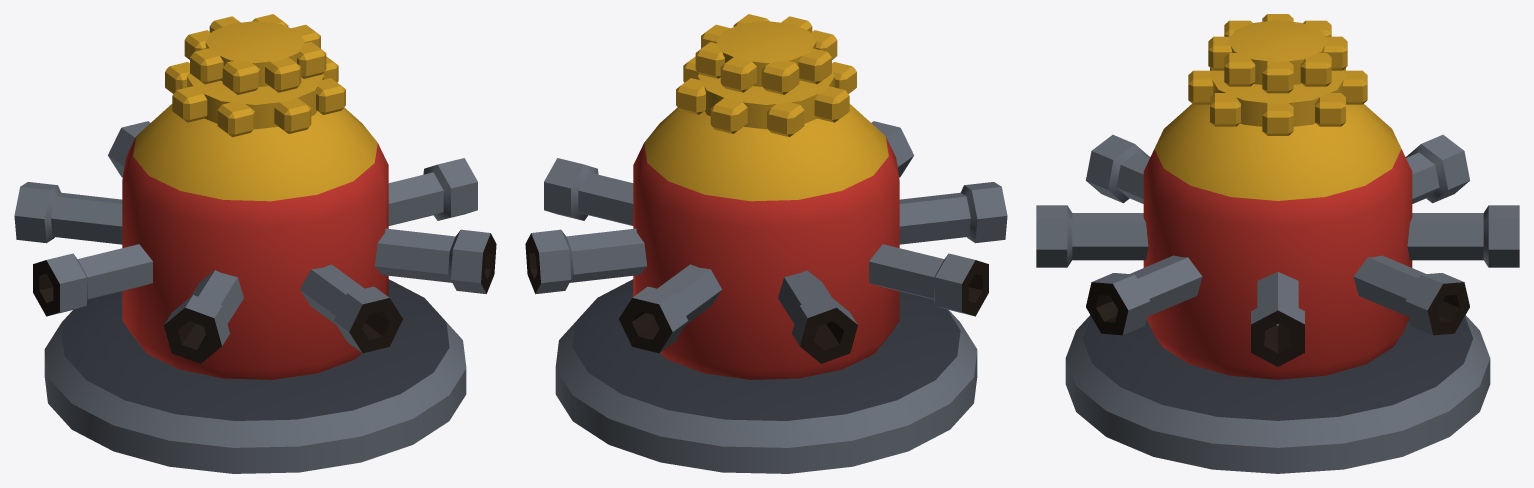
3 renders of one model, left to right at view 1: azimuth 30°, elevation 25°; view 2: azimuth 150°, elevation 25°; view 3: azimuth 270°, elevation 25°, orthographic.
Parts seen in each view (by area): view 1: tachinha_1_torreta, tachinha_0_base; view 2: tachinha_1_torreta, tachinha_0_base; view 3: tachinha_1_torreta, tachinha_0_base.
Part boxes in pixels (x1=…): tachinha_1_torreta: x1=14, y1=14, x2=496, y2=379; tachinha_0_base: x1=44, y1=279, x2=466, y2=473; tachinha_1_torreta: x1=525, y1=14, x2=1007, y2=379; tachinha_0_base: x1=555, y1=279, x2=977, y2=473; tachinha_1_torreta: x1=1036, y1=14, x2=1519, y2=379; tachinha_0_base: x1=1065, y1=315, x2=1490, y2=473.
Bounding box in the file's own units: 0.774 × 0.615 × 0.774.
